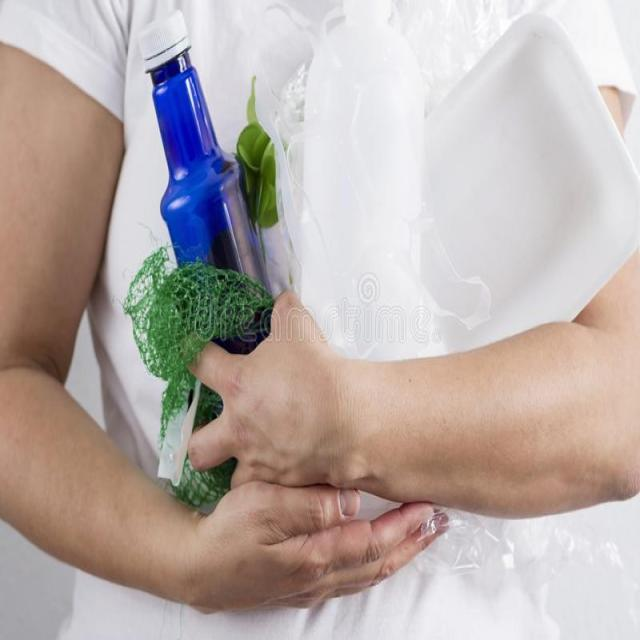Vidrio: (138, 10, 277, 300)
